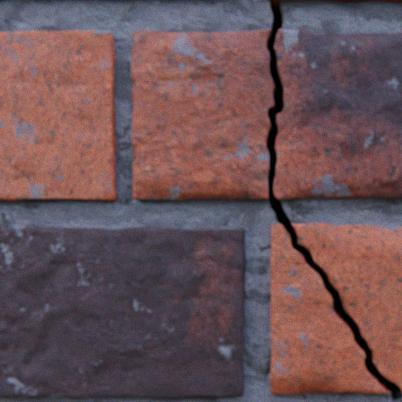brick: (0, 227, 245, 397), (0, 31, 117, 202), (268, 0, 401, 3)
broken_brick: (132, 30, 274, 199), (273, 29, 401, 200), (271, 224, 390, 393), (291, 223, 401, 389)
crack: (266, 1, 401, 400)
